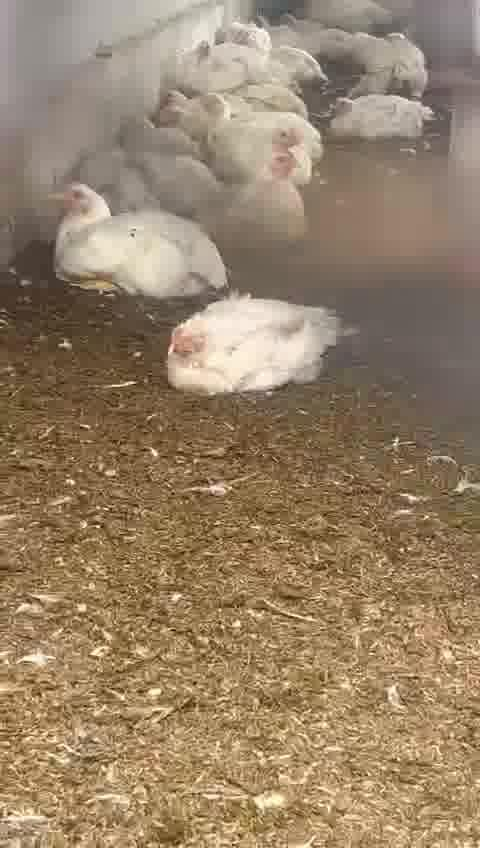AbNormal: (166, 294, 351, 395), (75, 144, 195, 202), (108, 108, 206, 176), (170, 45, 235, 99), (144, 84, 216, 132)
Normal: (37, 173, 238, 308), (217, 151, 312, 248), (315, 73, 438, 143), (224, 86, 325, 134), (227, 124, 320, 171)
